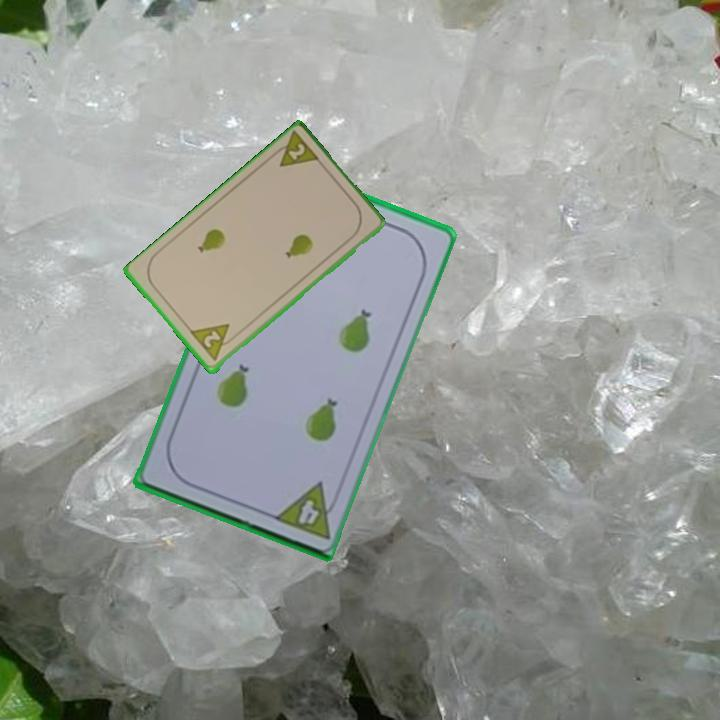2p: (187, 320, 241, 364), (267, 129, 323, 171)
4p: (268, 479, 344, 542)
